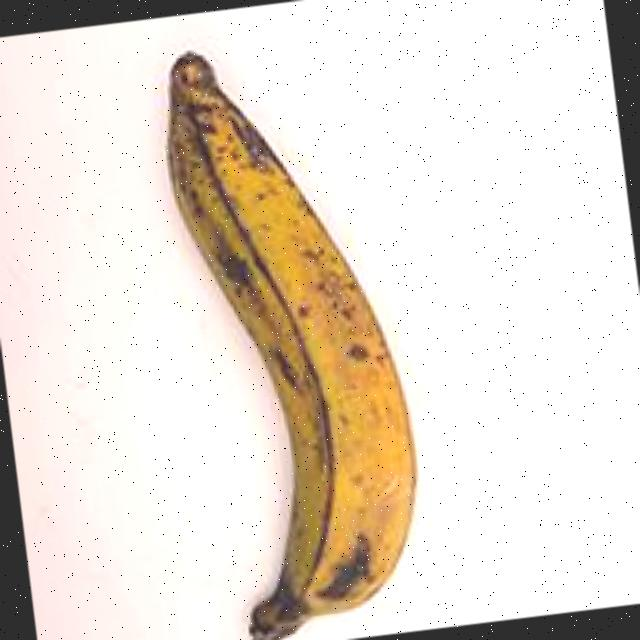Overripe: (89, 18, 469, 640)
